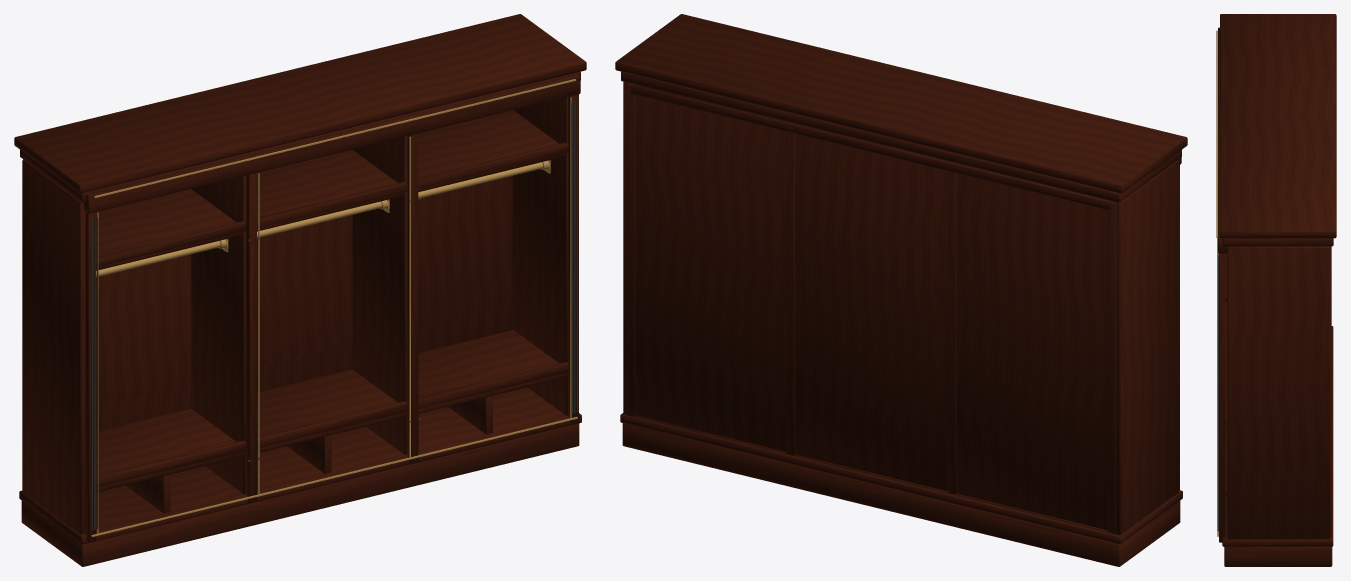
Rendered from luxury.glb.
3 views of the same model, side by side, from view 1: azimuth 30°, elevation 25°; view 2: azimuth 150°, elevation 25°; view 3: azimuth 270°, elevation 25° (orthographic). The views are drawn at different scales.
Parts seen in each view (by area): view 1: LOD0, LOD0_ContinuousBacker, LOD0_CrownUpper, LOD0_SidePanel_Left, LOD0_BaseMolding, LOD0_BasePlinth, LOD0_SidePanel_Right, LOD0_FrontFascia, LOD0_CrownLower, LOD0_BrassBaseInlay, LOD0_BrassCrownInlay; view 2: LOD0, LOD0_CrownUpper, LOD0_SidePanel_Left, LOD0_BasePlinth, LOD0_CrownLower, LOD0_BaseMolding, LOD0_SidePanel_Right; view 3: LOD0_SidePanel_Right, LOD0_CrownUpper, LOD0, LOD0_BasePlinth, LOD0_BaseMolding, LOD0_CrownLower, LOD1_SidePanel_Right, LOD0_FrontFascia, LOD0_BrassCrownInlay, LOD1_CrownUpper.
Boxes of the visible parts, x1,y1,x2,y2 form: LOD0: (85,94,578,542); LOD0_ContinuousBacker: (96,110,512,431); LOD0_CrownUpper: (14,14,586,193); LOD0_SidePanel_Left: (22,159,85,534); LOD0_BaseMolding: (19,387,581,544); LOD0_BasePlinth: (21,423,579,566); LOD0_SidePanel_Right: (512,97,568,415); LOD0_FrontFascia: (83,74,580,213); LOD0_CrownLower: (20,71,580,202); LOD0_BrassBaseInlay: (91,417,577,536); LOD0_BrassCrownInlay: (94,79,576,197); LOD0: (627,84,1179,534); LOD0_CrownUpper: (615,14,1187,193); LOD0_SidePanel_Left: (1109,160,1178,534); LOD0_BasePlinth: (622,423,1180,566); LOD0_CrownLower: (621,71,1181,202); LOD0_BaseMolding: (620,413,1182,544); LOD0_SidePanel_Right: (623,82,635,414); LOD0_SidePanel_Right: (1227,246,1330,539); LOD0_CrownUpper: (1220,14,1336,237); LOD0: (1217,238,1331,542); LOD0_BasePlinth: (1224,547,1332,566); LOD0_BaseMolding: (1222,326,1333,546); LOD0_CrownLower: (1222,238,1333,246); LOD1_SidePanel_Right: (1227,246,1330,538); LOD0_FrontFascia: (1218,27,1227,253); LOD0_BrassCrownInlay: (1216,30,1217,237); LOD1_CrownUpper: (1221,231,1334,238).
Size of what is drawn, in the model's own units: 3.24 by 2.35 by 0.7565.
6 materials, 1 textured.
